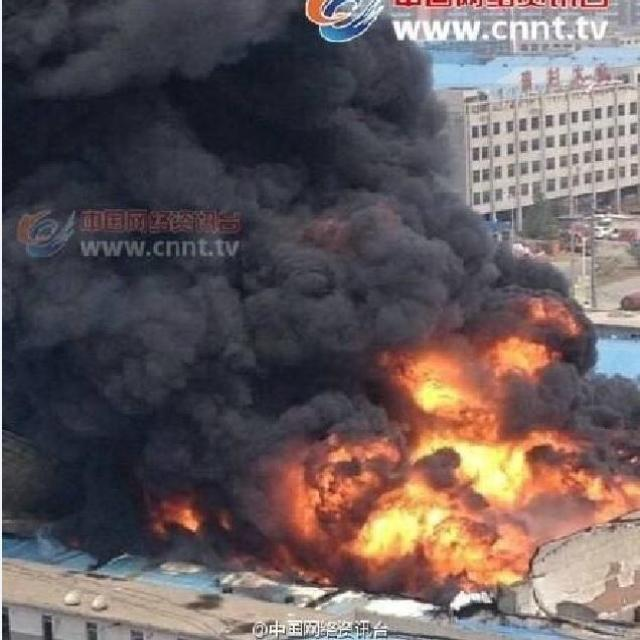Fire: (287, 294, 640, 586), (176, 506, 200, 534)
Smoke: (1, 1, 640, 605)
